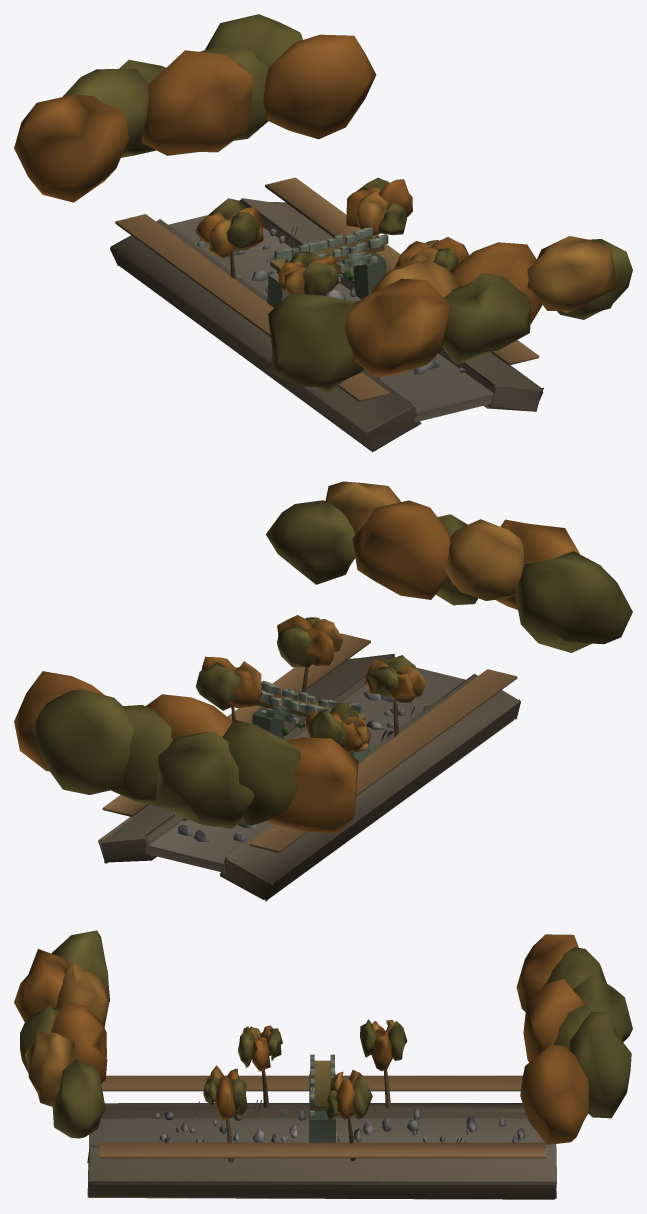
3 views of the same model, one above another, from view 1: azimuth 30°, elevation 25°; view 2: azimuth 150°, elevation 25°; view 3: azimuth 270°, elevation 25° (orthographic). The views are drawn at different scales.
Parts seen in each view (by area): view 1: trees, banks, bed, bridge; view 2: trees, banks, bed, bridge; view 3: trees, banks, bed, bridge.
Part boxes in pixels (<box>): trees: <box>14,14,632,393</box>; banks: <box>110,177,543,452</box>; bed: <box>168,215,495,422</box>; bridge: <box>267,227,388,307</box>; trees: <box>14,481,632,833</box>; banks: <box>98,633,520,901</box>; bed: <box>146,667,465,872</box>; bridge: <box>252,680,368,762</box>; trees: <box>14,930,632,1162</box>; banks: <box>87,1075,556,1199</box>; bed: <box>89,1116,556,1154</box>; bridge: <box>309,1054,335,1142</box>.
Size of the model in its own units: 37.53 by 21.27 by 60.93.
